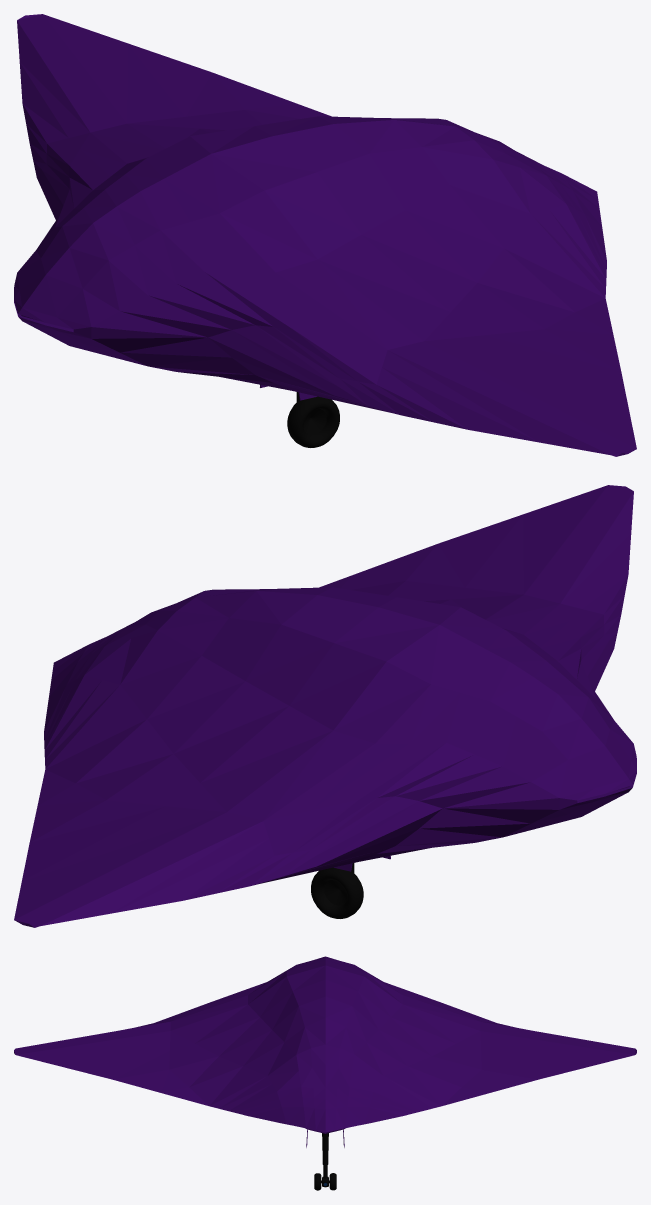
3 renders of one model, top to bottom at view 1: azimuth 30°, elevation 25°; view 2: azimuth 150°, elevation 25°; view 3: azimuth 270°, elevation 25°, orthographic. The views are drawn at different scales.
Visible parts, largest first — view 1: Mainframe.003_Mainframe.005, MainGearWheelRight.003_SurfTorus.001; view 2: Mainframe.003_Mainframe.005, MainGearWheelLeft.004_SurfTorus.002; view 3: Mainframe.003_Mainframe.005.
Part boxes in pixels (x1=…): Mainframe.003_Mainframe.005: x1=14, y1=14, x2=636, y2=456; MainGearWheelRight.003_SurfTorus.001: x1=287, y1=396, x2=339, y2=447; Mainframe.003_Mainframe.005: x1=14, y1=485, x2=636, y2=927; MainGearWheelLeft.004_SurfTorus.002: x1=311, y1=867, x2=363, y2=918; Mainframe.003_Mainframe.005: x1=14, y1=956, x2=636, y2=1133.
Size of the model in its own units: 2.25 by 0.9946 by 4.02.
